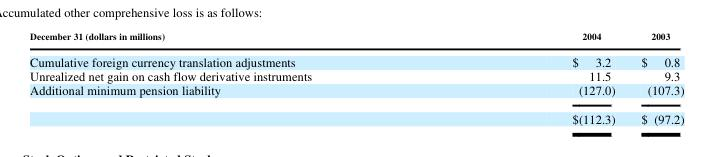table: (29, 29, 683, 126)
table column: (29, 29, 441, 126), (441, 29, 627, 126), (627, 29, 683, 126)
table column header: (29, 29, 683, 47)
table row: (29, 103, 683, 126), (29, 47, 683, 68), (29, 82, 683, 103), (29, 29, 683, 47), (29, 68, 683, 82)
